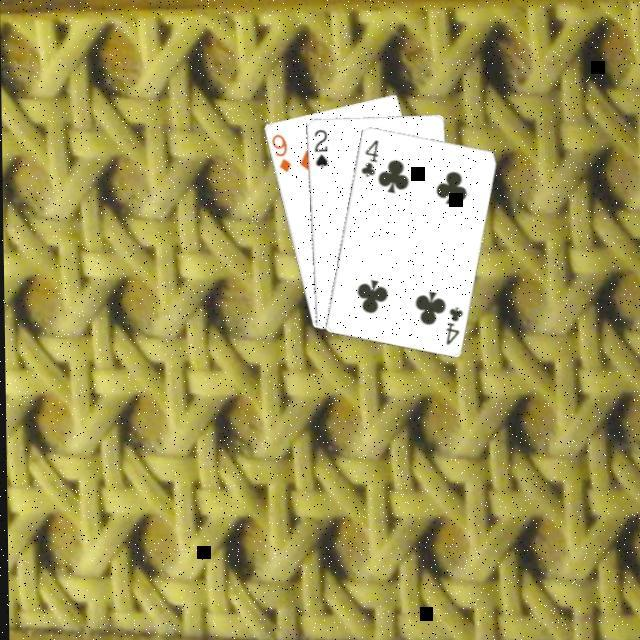2S: (308, 126, 329, 170)
4C: (440, 302, 464, 346), (356, 136, 379, 178)
9D: (267, 130, 293, 174)
